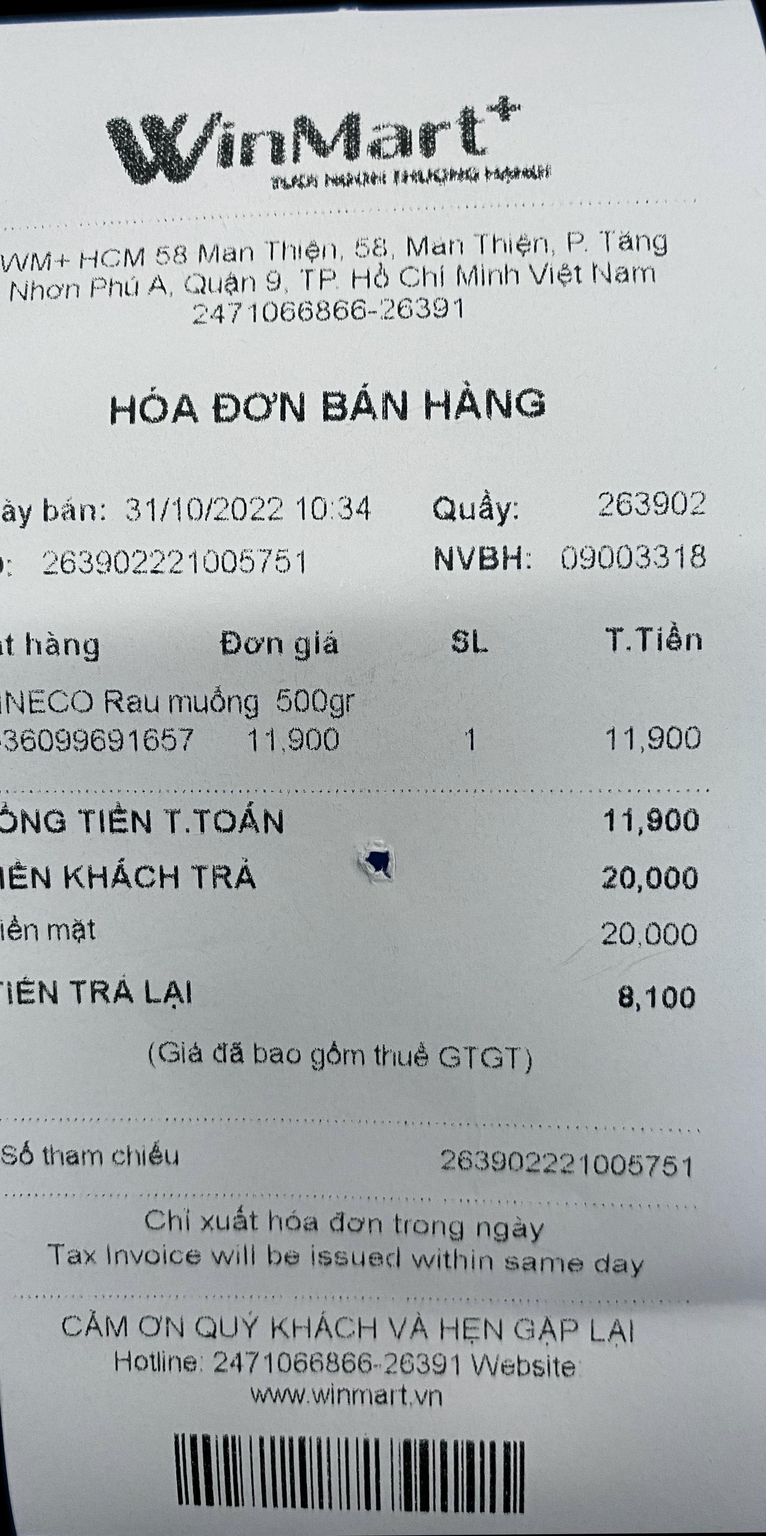Date: (108, 487, 295, 532)
Store_Name: (62, 91, 570, 198)
Total_Amount: (0, 776, 726, 856)
